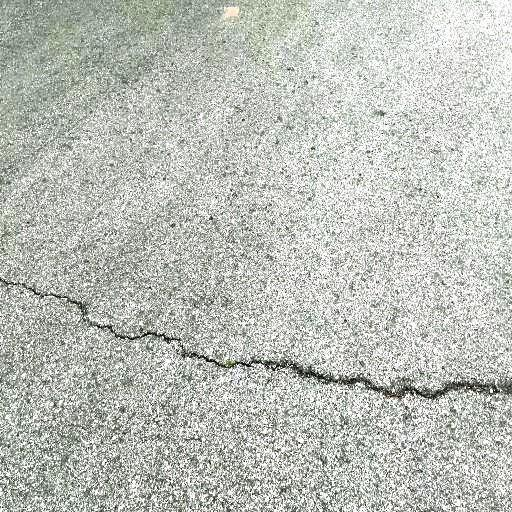Melintang: (1, 266, 512, 404)
